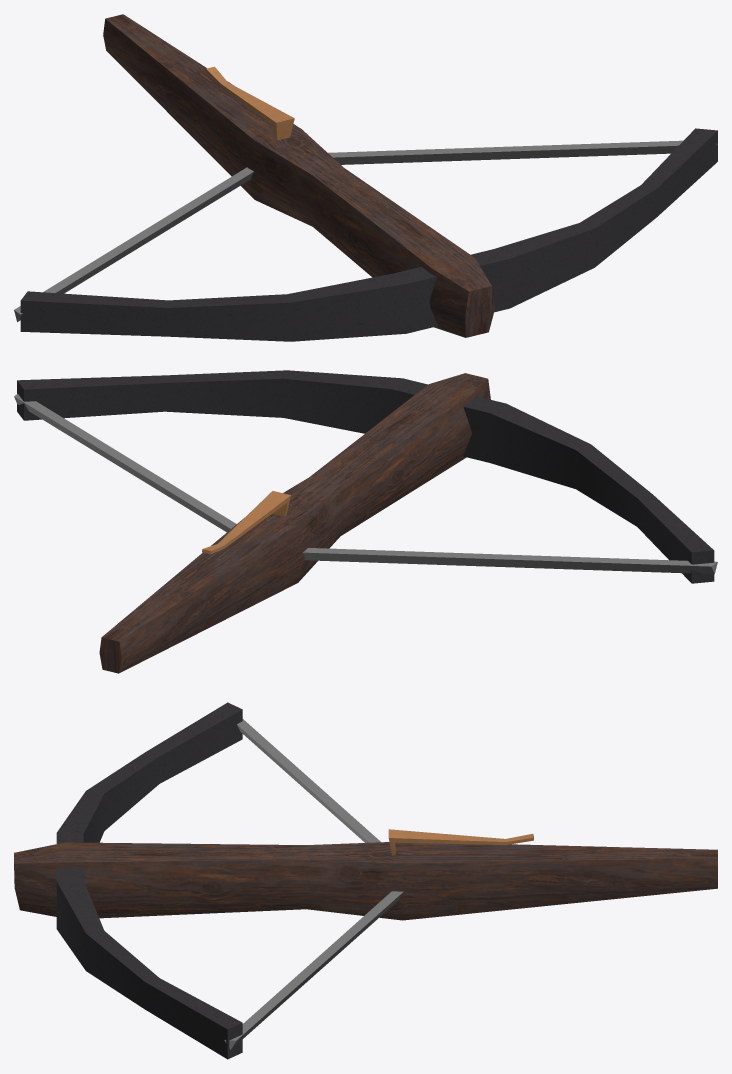
File: 1201狩猎弩.FBX
3 renders of one model, top to bottom at view 1: azimuth 30°, elevation 25°; view 2: azimuth 150°, elevation 25°; view 3: azimuth 270°, elevation 25°, orthographic. The views are drawn at different scales.
Visible parts, largest first — view 1: 1201_HuntCrossBow; view 2: 1201_HuntCrossBow; view 3: 1201_HuntCrossBow.
Boxes of the visible parts, x1,y1,x2,y2 form: 1201_HuntCrossBow: [14, 14, 717, 341]; 1201_HuntCrossBow: [14, 370, 717, 673]; 1201_HuntCrossBow: [14, 702, 717, 1059].
Bounding box in the file's own units: 86.37 × 9.31 × 78.34.
1 material, 1 textured.
